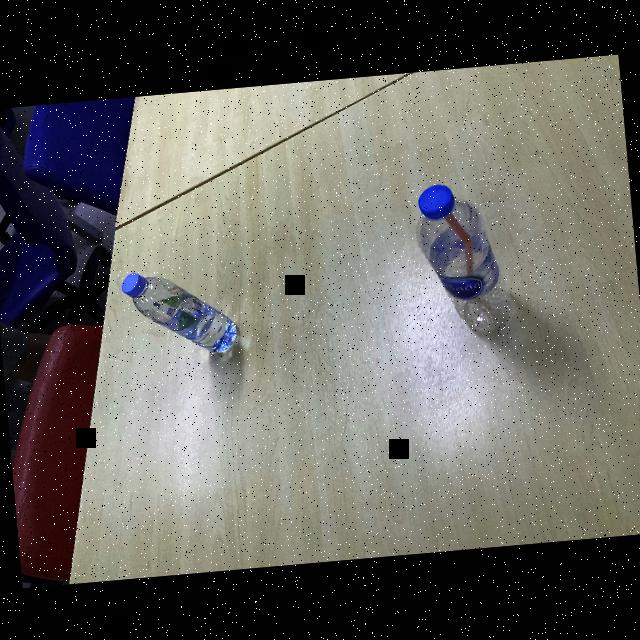plastic_bottle: (407, 177, 515, 336), (121, 262, 243, 362)
plastic_bottle_cap: (415, 182, 457, 218), (120, 272, 148, 296)
straw: (439, 210, 476, 288)
